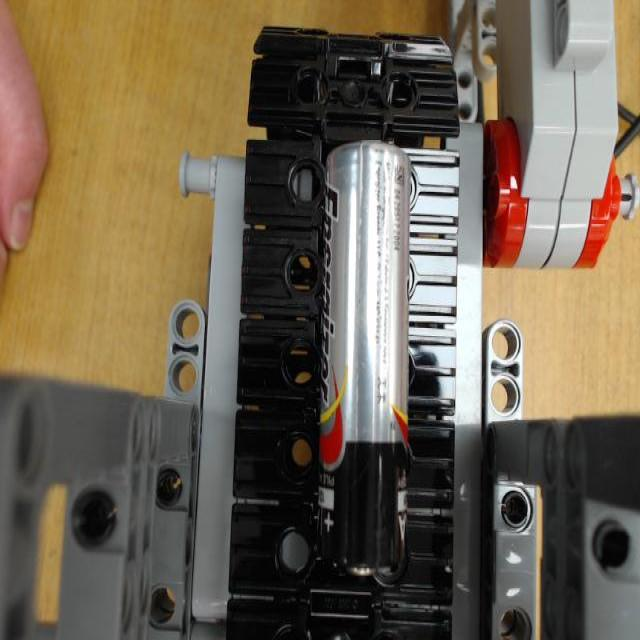AA: (324, 136, 408, 583)
